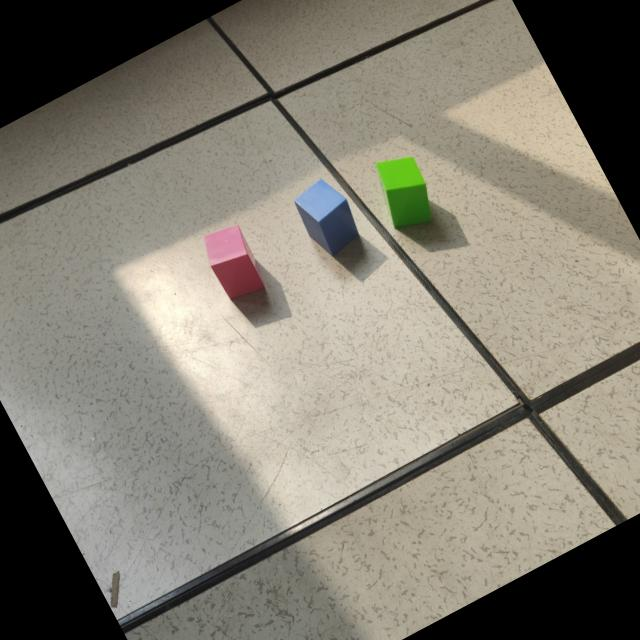blue: (293, 172, 360, 256)
green: (375, 154, 434, 232)
pink: (200, 217, 262, 291)
